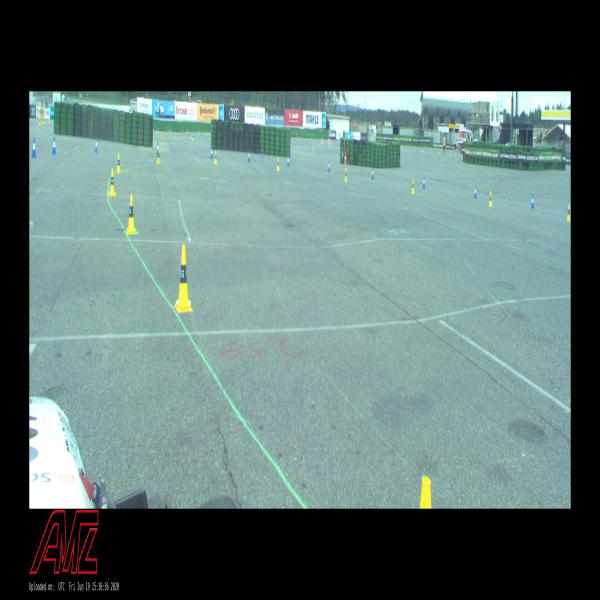blue_cone: (32, 138, 36, 158), (52, 137, 56, 155), (530, 195, 534, 209), (95, 138, 98, 154), (210, 146, 213, 159), (156, 141, 159, 154), (474, 185, 477, 198), (371, 167, 374, 179), (423, 176, 425, 189), (328, 160, 330, 173), (248, 150, 250, 162), (287, 155, 289, 167), (342, 152, 343, 159)
large_orange_cone: (322, 136, 323, 146), (321, 137, 322, 145)
yellow_cone: (175, 243, 193, 314), (127, 194, 136, 235), (109, 168, 116, 196), (116, 153, 122, 175), (566, 204, 570, 221), (488, 191, 492, 207), (411, 179, 415, 194), (344, 167, 347, 183), (277, 157, 280, 172), (214, 150, 217, 163), (157, 151, 160, 164), (344, 151, 346, 159), (192, 134, 194, 140), (175, 133, 177, 138), (41, 117, 42, 124), (209, 134, 210, 140), (191, 133, 192, 138)
